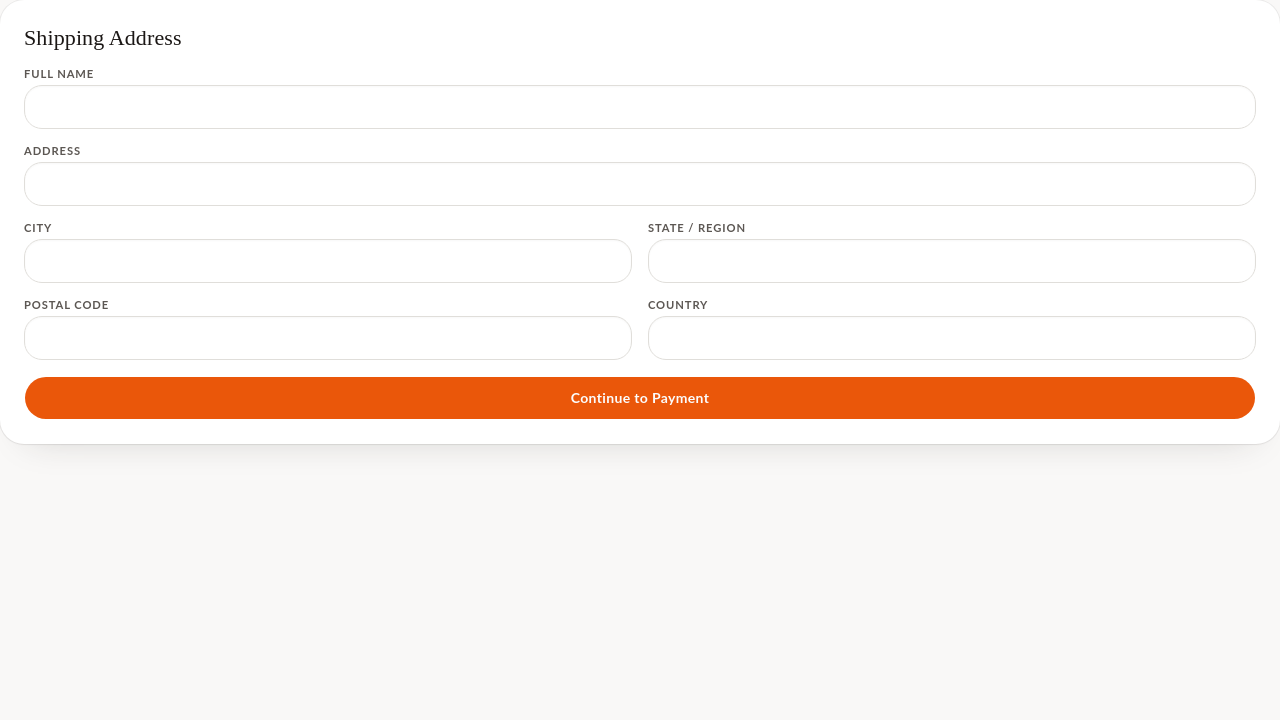
it: AddressStep › blocks submission and reports every missing required field
This screenshot has width=1280, height=720.
Click the button "Continue to Payment": [640, 398] box [24,376,1256,420]
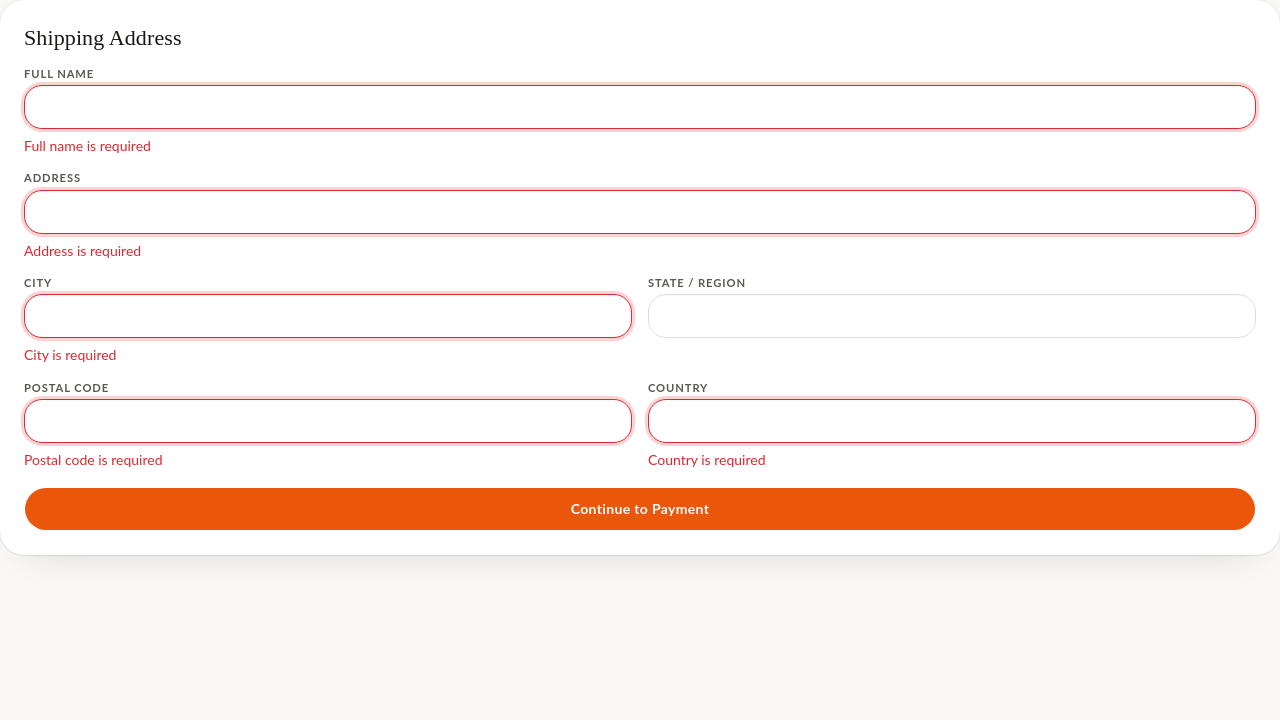
Expected: the text "Full name is required" is shown, [24,137,151,154]
Expected: the text "Address is required" is shown, [24,242,141,259]
Expected: the text "City is required" is shown, [24,346,116,364]
